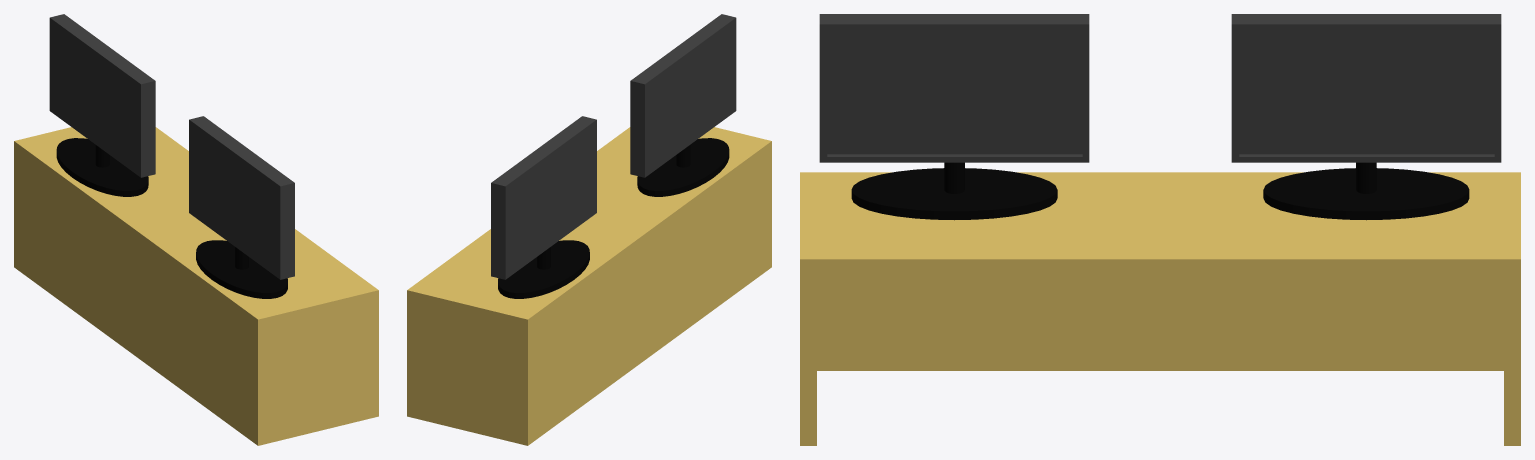
The model's file is desk.dae.
The picture shows the model from 3 angles, left to right: view 1: azimuth 30°, elevation 25°; view 2: azimuth 150°, elevation 25°; view 3: azimuth 270°, elevation 25°; orthographic projection. The views are drawn at different scales.
Parts seen in each view (by area): view 1: Desk, Computer2, Computer; view 2: Desk, Computer, Computer2; view 3: Desk, Computer2, Computer.
Boxes of the visible parts, x1=… form: Desk: x1=14, y1=127, x2=378, y2=445; Computer2: x1=49, y1=14, x2=155, y2=196; Computer: x1=189, y1=116, x2=294, y2=298; Desk: x1=407, y1=127, x2=771, y2=445; Computer: x1=630, y1=14, x2=736, y2=196; Computer2: x1=491, y1=116, x2=596, y2=298; Desk: x1=800, y1=172, x2=1520, y2=445; Computer2: x1=1231, y1=14, x2=1501, y2=220; Computer: x1=819, y1=14, x2=1089, y2=220.
Size of the model in its own units: 2 by 7 by 3.92.
